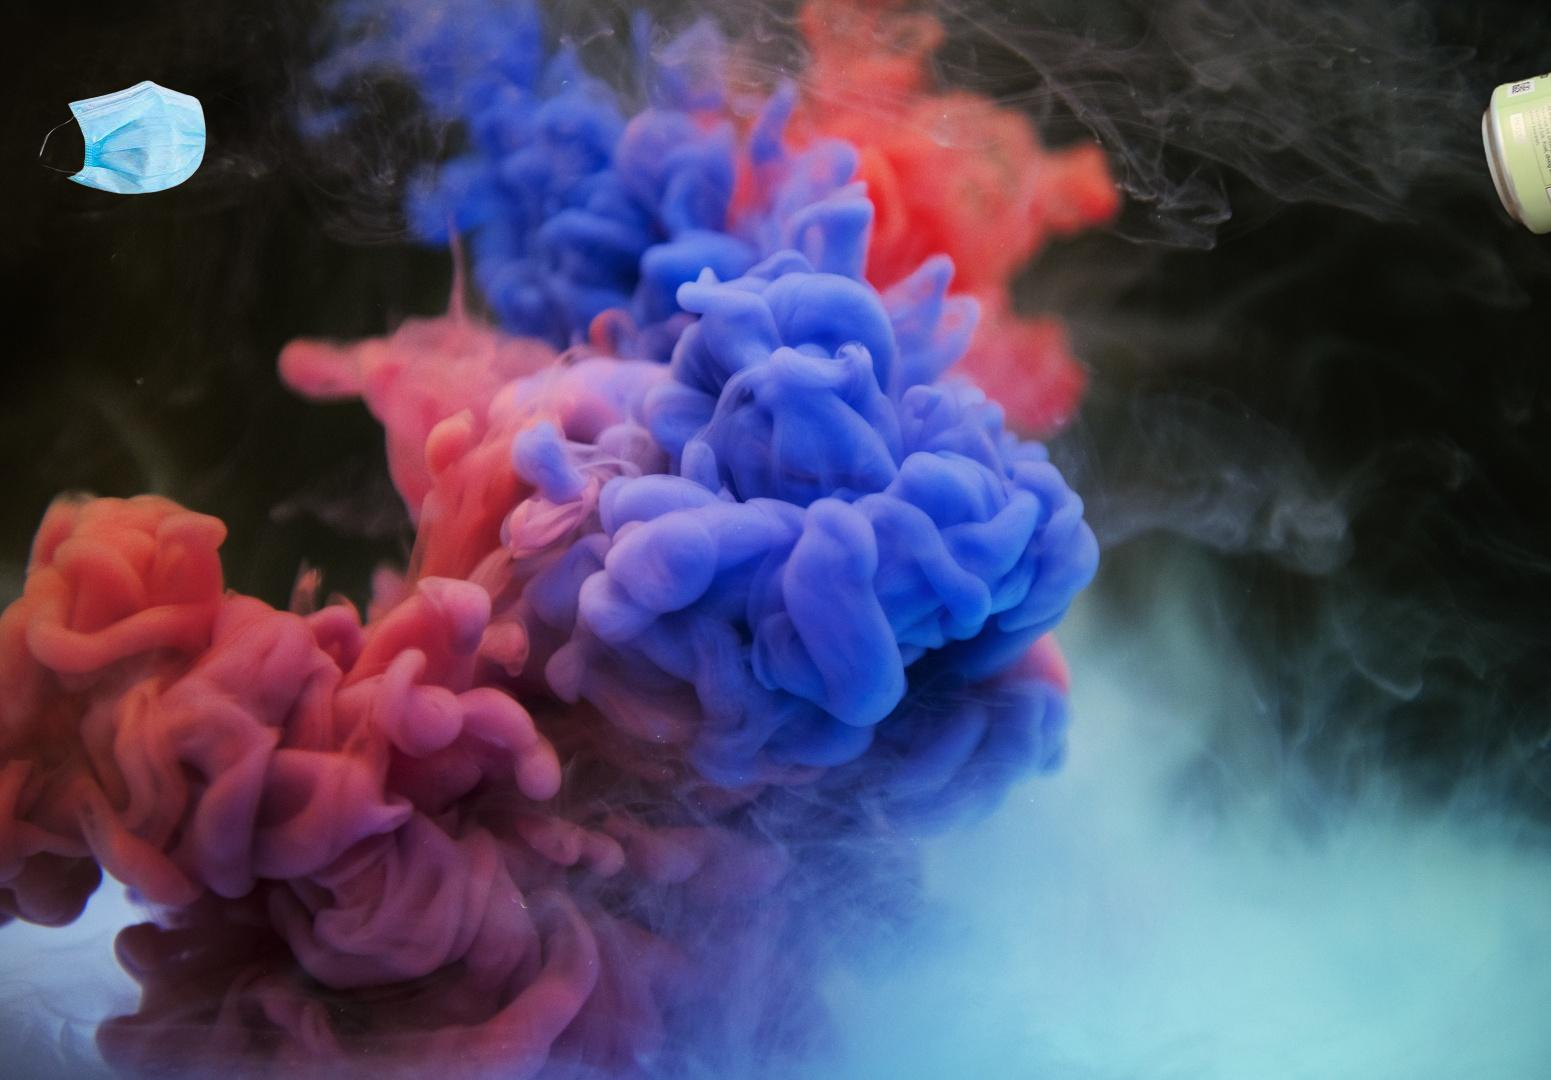metal-cans: (1476, 27, 1551, 241)
trash: (34, 77, 209, 197)
